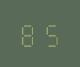eight: (19, 20, 39, 47)
five: (40, 20, 60, 47)
